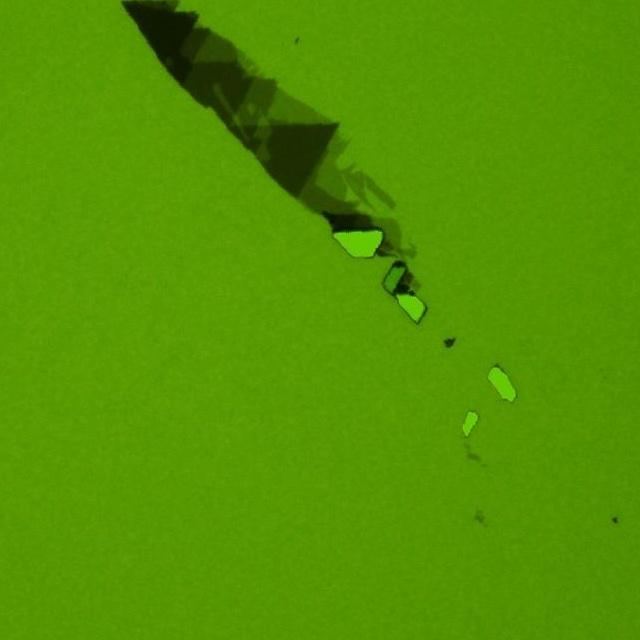monolayer-eWW4: (270, 85, 332, 132), (341, 162, 398, 212), (318, 134, 351, 202), (374, 217, 402, 247)
